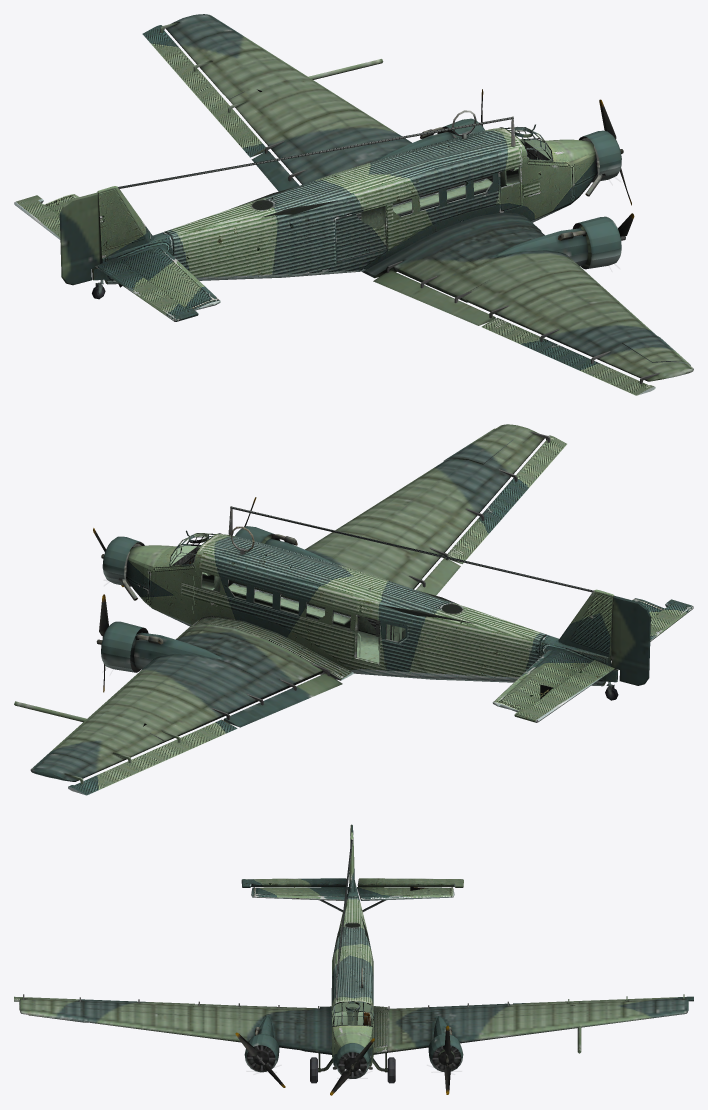
The model's file is source.glb.
The picture shows the model from 3 angles, top to bottom: view 1: azimuth 30°, elevation 25°; view 2: azimuth 150°, elevation 25°; view 3: azimuth 270°, elevation 25°; orthographic projection. The views are drawn at different scales.
Visible parts, largest first — view 1: body_body.001, body2_body2.001, wingl4_wingl4.001, wingr1_wingr1.001, wingr2_wingr2.001, wingr3_wingr3.001, rudder_rudder.001, aileron1_aileron1.001, wingr5_wingr5.001, wingl10_wingl10.001, wingr4_wingr4.001, aileron2_aileron2.001 (+22 smaller); view 2: body_body.001, body2_body2.001, wingl4_wingl4.001, detail1_detail1.001, wingr3_wingr3.001, wingr5_wingr5.001, wingl2_wingl2.001, rudder_rudder.001, wingr4_wingr4.001, aileron2_aileron2.001, wingl10_wingl10.001, aileron1_aileron1.001 (+25 smaller); view 3: body_body.001, wingr2_wingr2.001, wingl5_wingl5.001, wingr5_wingr5.001, wingr4_wingr4.001, wingr1_wingr1.001, wingl1_wingl1.001, wingl10_wingl10.001, wingl6_wingl6.001, wingl4_wingl4.001, wingr3_wingr3.001, wingl3_wingl3.001 (+15 smaller).
Boxes of the visible parts, x1,y1,x2,y2 form: body_body.001: [246, 110, 602, 278]; body2_body2.001: [92, 204, 262, 284]; wingl4_wingl4.001: [249, 97, 369, 184]; wingr1_wingr1.001: [362, 212, 541, 303]; wingr2_wingr2.001: [441, 224, 591, 279]; wingr3_wingr3.001: [462, 259, 587, 318]; rudder_rudder.001: [59, 192, 100, 285]; aileron1_aileron1.001: [142, 25, 265, 157]; wingr5_wingr5.001: [548, 300, 657, 350]; wingl10_wingl10.001: [160, 14, 266, 71]; wingr4_wingr4.001: [466, 270, 619, 330]; aileron2_aileron2.001: [481, 317, 655, 395]; body_body.001: [121, 506, 468, 680]; body2_body2.001: [452, 608, 618, 686]; wingl4_wingl4.001: [137, 666, 269, 729]; detail1_detail1.001: [170, 545, 477, 662]; wingr3_wingr3.001: [311, 520, 448, 581]; wingr5_wingr5.001: [383, 459, 497, 518]; wingl2_wingl2.001: [220, 639, 330, 696]; rudder_rudder.001: [611, 595, 650, 685]; wingr4_wingr4.001: [330, 499, 466, 579]; aileron2_aileron2.001: [447, 435, 566, 564]; wingl10_wingl10.001: [30, 738, 131, 784]; aileron1_aileron1.001: [68, 719, 237, 795]; body_body.001: [331, 922, 388, 1069]; wingr2_wingr2.001: [234, 1009, 305, 1050]; wingl5_wingl5.001: [454, 1013, 543, 1043]; wingr5_wingr5.001: [83, 1001, 156, 1031]; wingr4_wingr4.001: [157, 1003, 225, 1040]; wingr1_wingr1.001: [238, 1003, 331, 1054]; wingl1_wingl1.001: [387, 1010, 676, 1052]; wingl10_wingl10.001: [624, 994, 688, 1021]; wingl6_wingl6.001: [534, 1001, 588, 1053]; wingl4_wingl4.001: [453, 1001, 546, 1019]; wingr3_wingr3.001: [190, 1001, 240, 1041]; wingl3_wingl3.001: [419, 1013, 460, 1069].
Bounding box in the file's own units: 373 × 112 × 565.
Materials: 66 (66 with a texture image).
